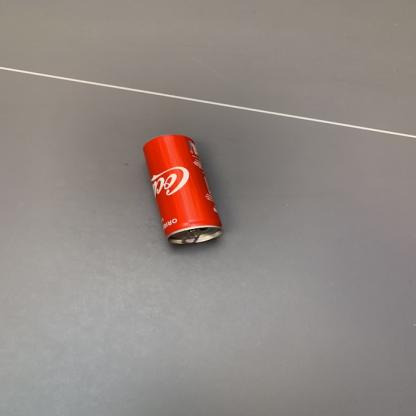trash: (135, 131, 231, 248)
